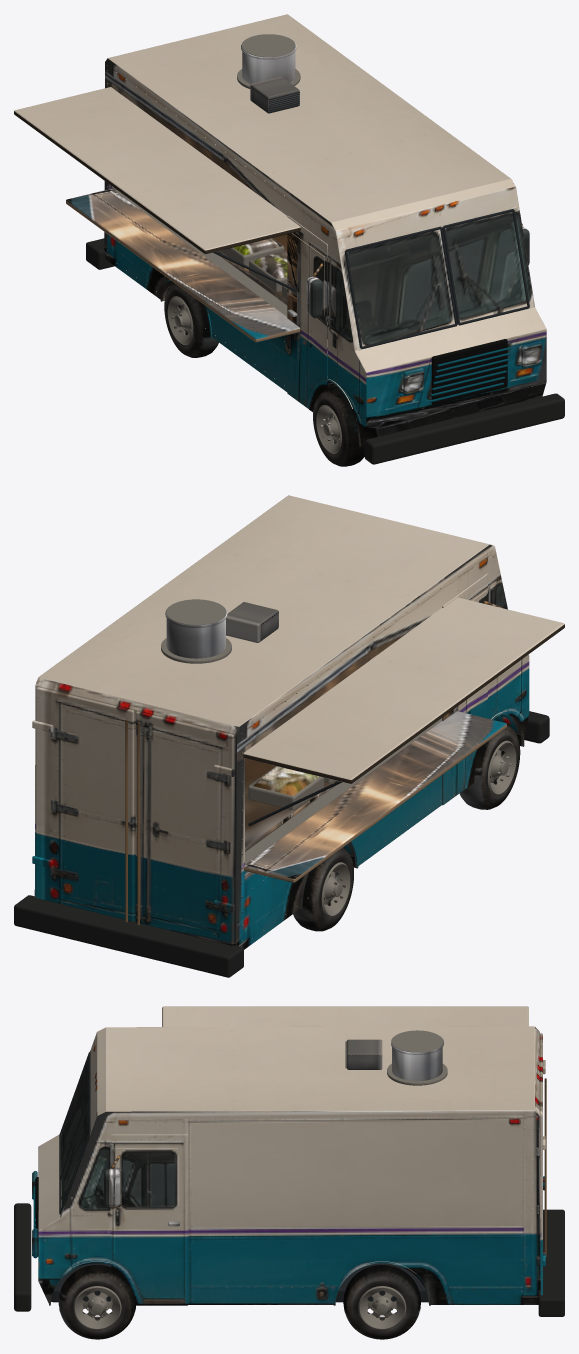
File: taco-truck-approved-source.glb
3 views of the same model, one above another, from view 1: azimuth 30°, elevation 25°; view 2: azimuth 150°, elevation 25°; view 3: azimuth 270°, elevation 25° (orthographic). The views are drawn at different scales.
Parts seen in each view (by area): view 1: TacoTruck_SourceCalibrated; view 2: TacoTruck_SourceCalibrated; view 3: TacoTruck_SourceCalibrated.
Boxes of the visible parts, left/top/right/bottom form: TacoTruck_SourceCalibrated: left=14, top=14, right=564, bottom=466; TacoTruck_SourceCalibrated: left=14, top=495, right=564, bottom=977; TacoTruck_SourceCalibrated: left=14, top=1006, right=564, bottom=1339.
Size of the model in its own units: 3.61 by 3.17 by 6.07.
Materials: 8 (6 with a texture image).
